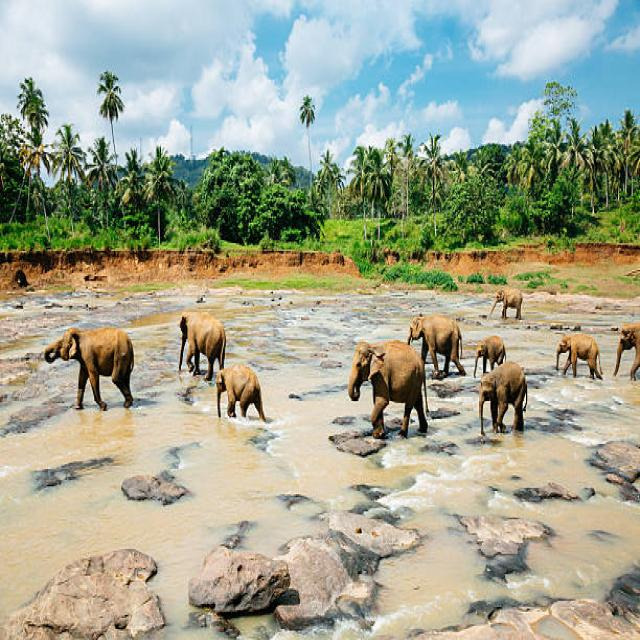Elephant: (342, 333, 431, 452), (41, 328, 145, 414), (407, 311, 471, 389), (171, 307, 232, 383), (468, 362, 532, 432), (554, 330, 607, 408), (214, 365, 266, 429), (485, 283, 539, 328)
